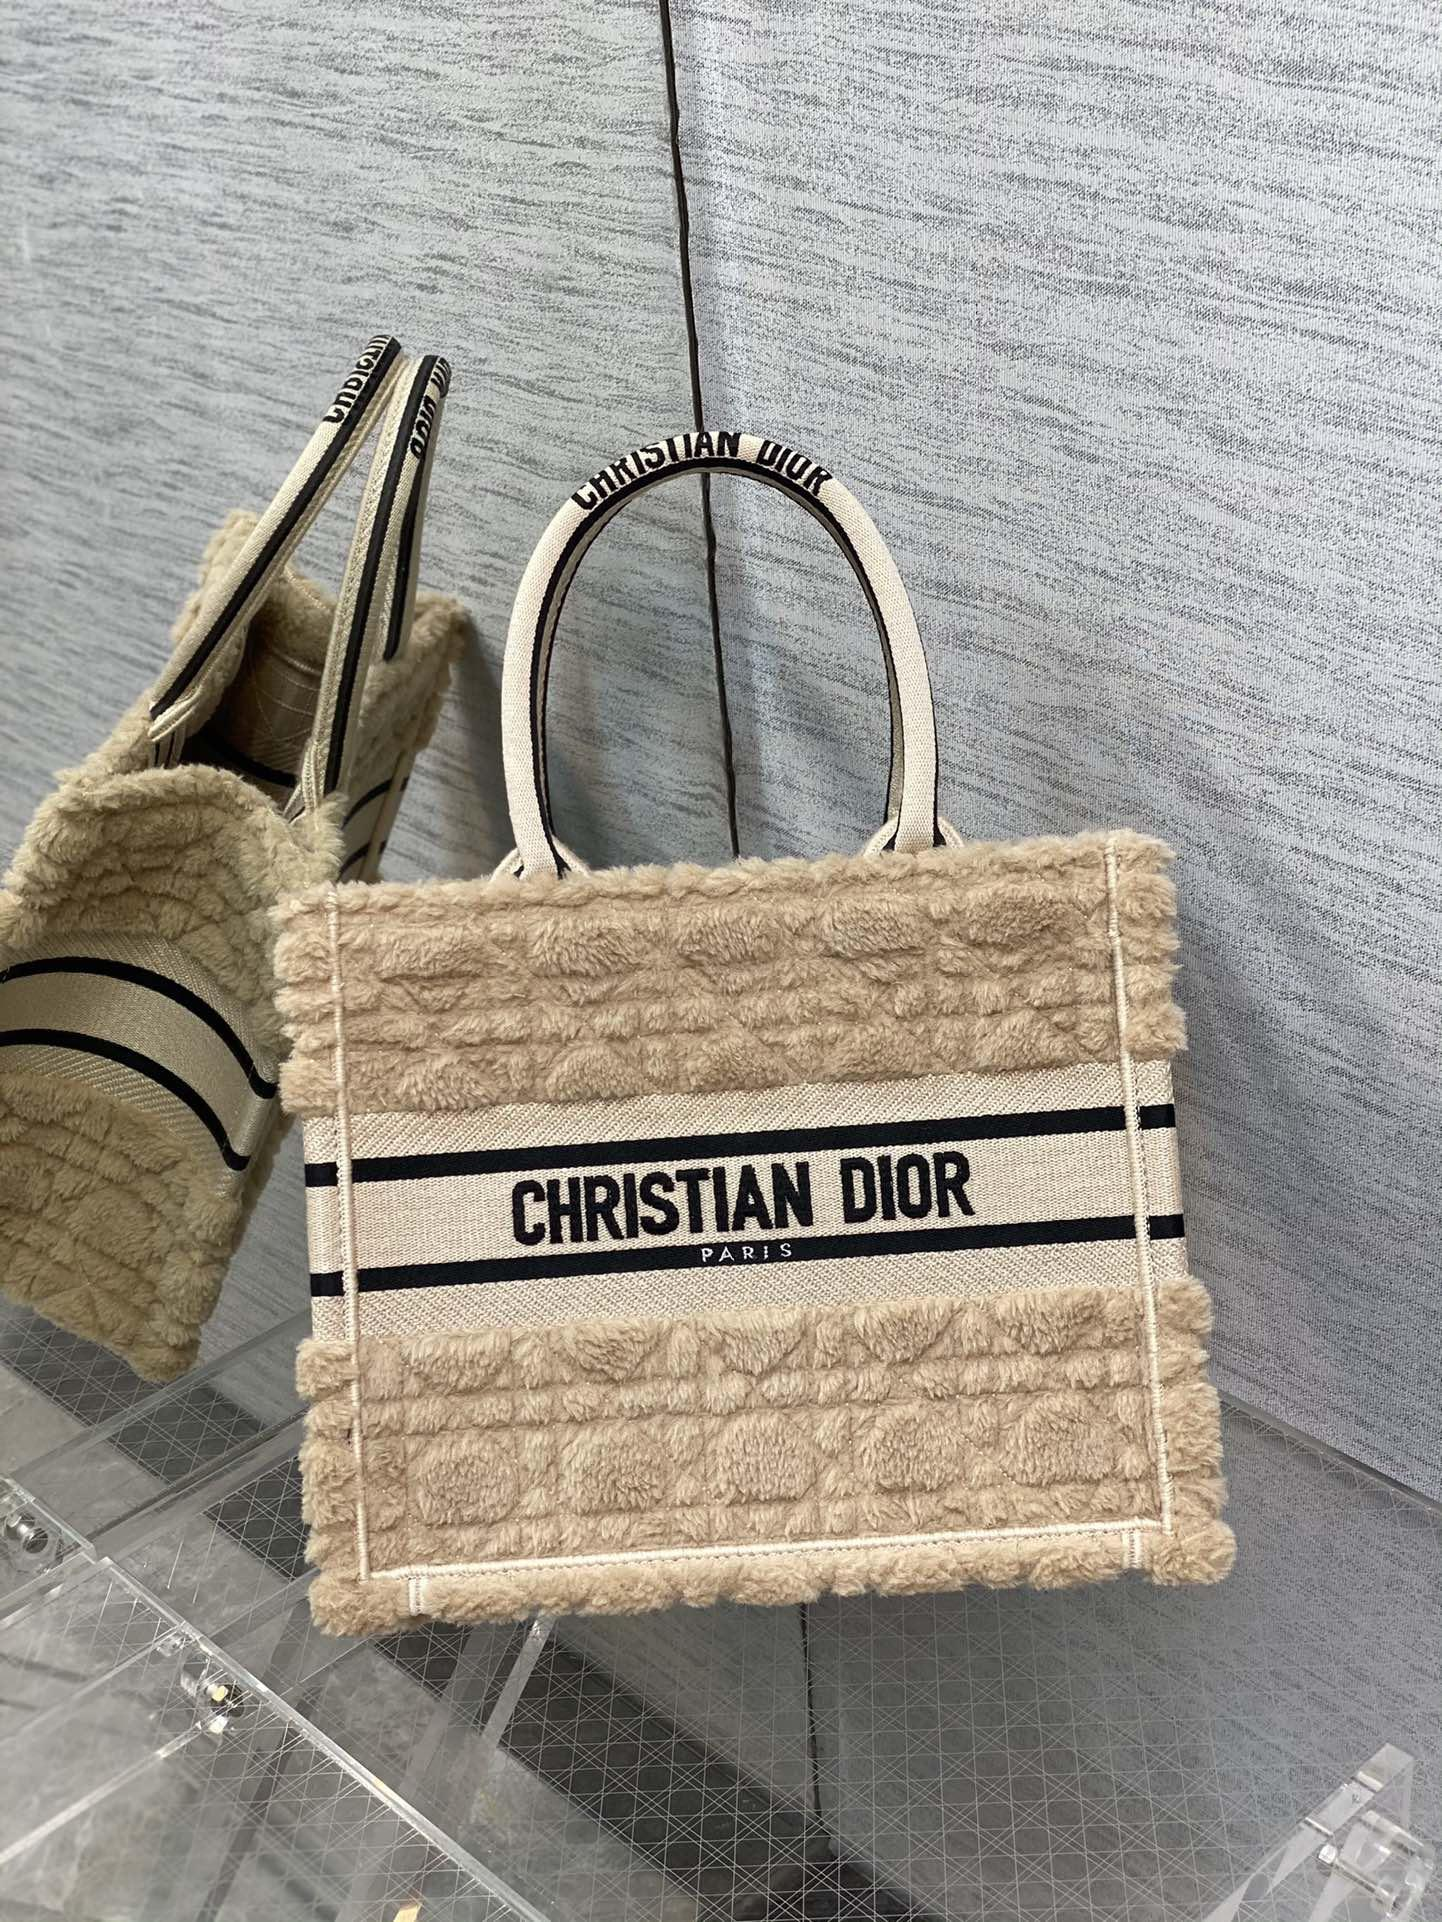DIOR: (477, 1116, 1021, 1268)
